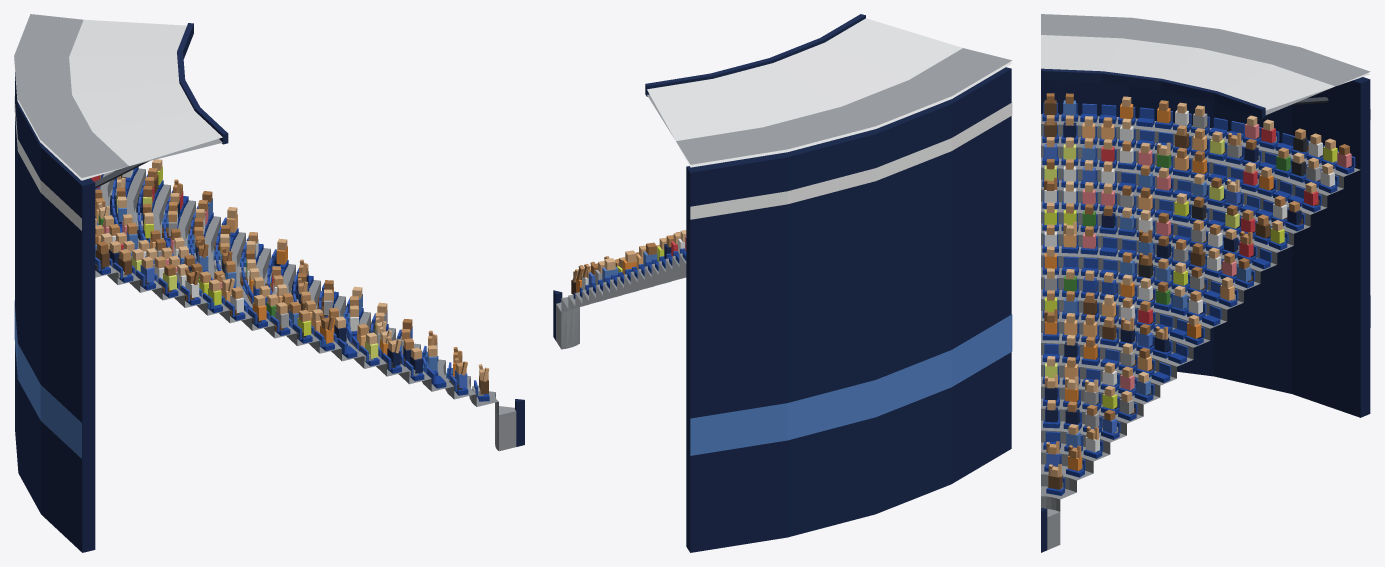
Rendered from StandCorner_1.glb.
3 renders of one model, left to right at view 1: azimuth 30°, elevation 25°; view 2: azimuth 150°, elevation 25°; view 3: azimuth 270°, elevation 25°, orthographic. The views are drawn at different scales.
Parts seen in each view (by area): view 1: StandCorner_1; view 2: StandCorner_1; view 3: StandCorner_1.
Part boxes in pixels (box(x1,y1,x2,y2)): StandCorner_1: box(14, 14, 524, 552); StandCorner_1: box(553, 14, 1012, 552); StandCorner_1: box(1041, 14, 1370, 552).
Bounding box in the file's own units: 51.4 × 42.55 × 36.35.
1 material, 1 textured.
